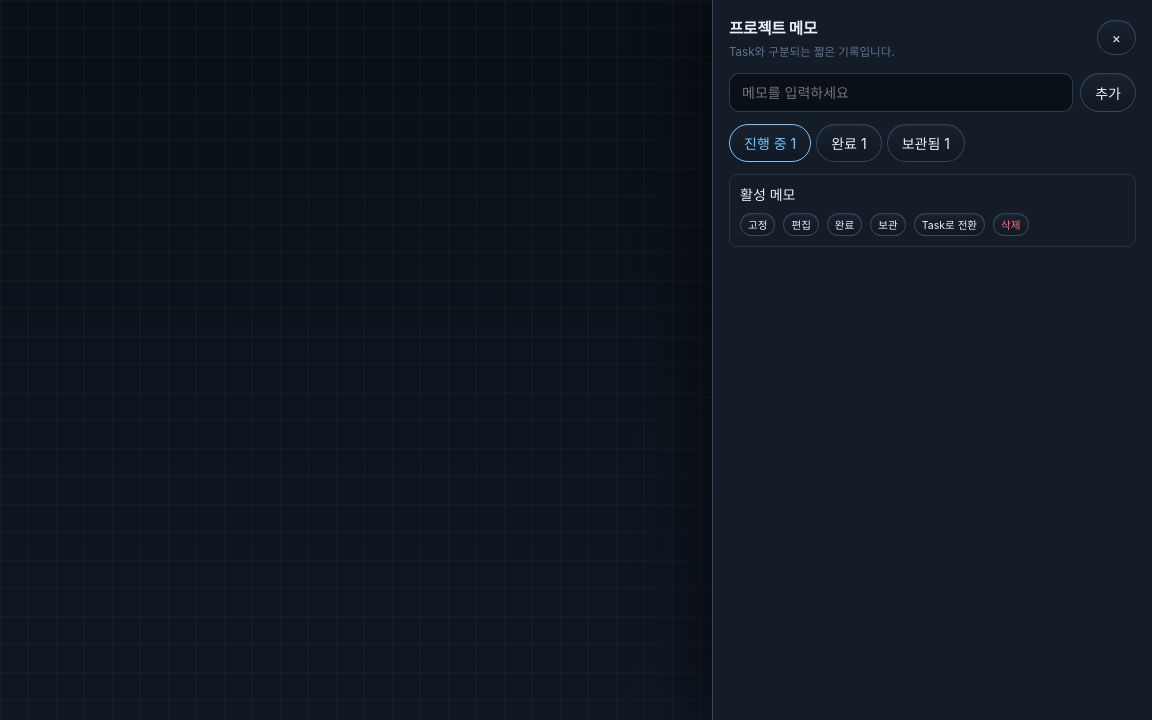
Test case: ProjectNotesDrawer › loads every lifecycle once and filters active, completed, and archived notes
Expected: the text "활성 메모" is shown, [740,186,796,203]
Expected: the text "완료 메모" is not shown
Click the button "완료 1": (849, 143) [816,124,882,162]
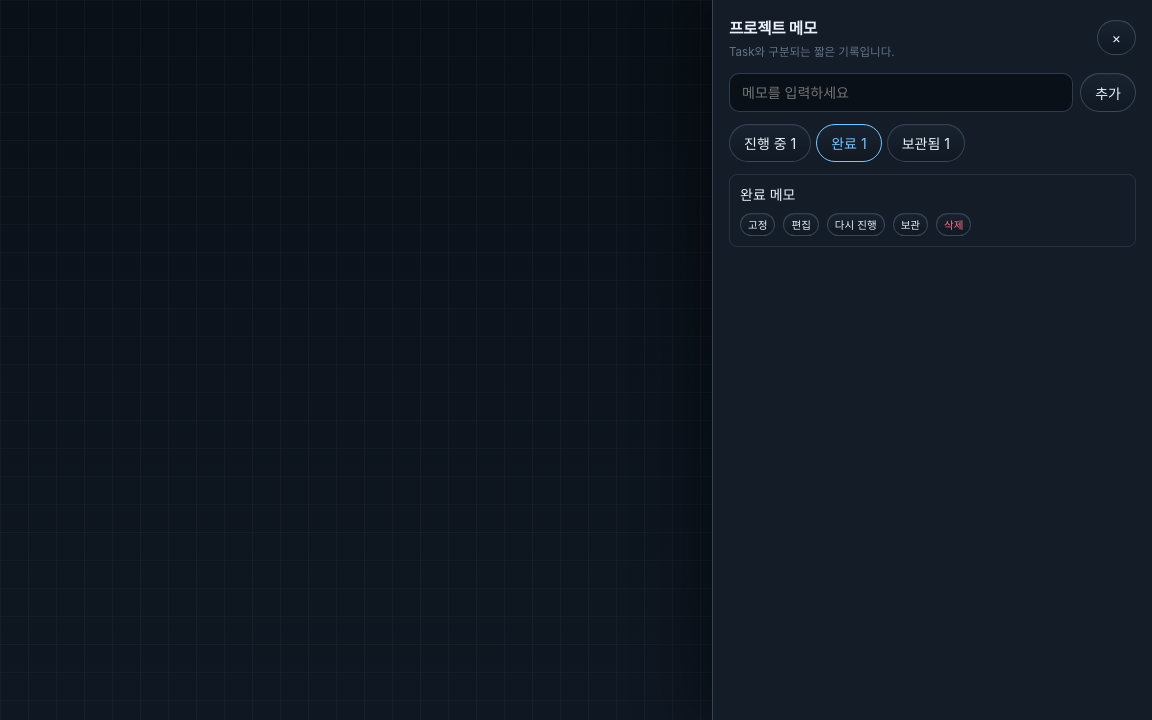
Result: the text "완료 메모" is shown at [740,186,796,203]
Click the button "보관됨 1": (926, 143) [887,124,965,162]
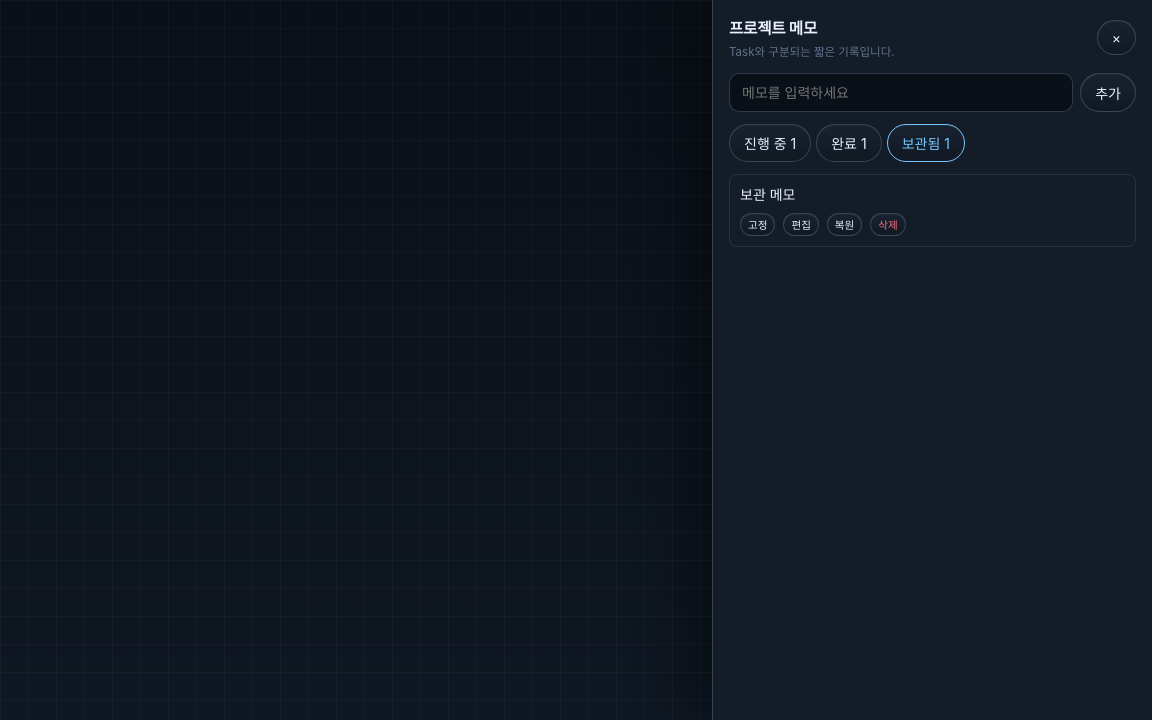
Result: the text "보관 메모" is shown at [740,186,796,203]
